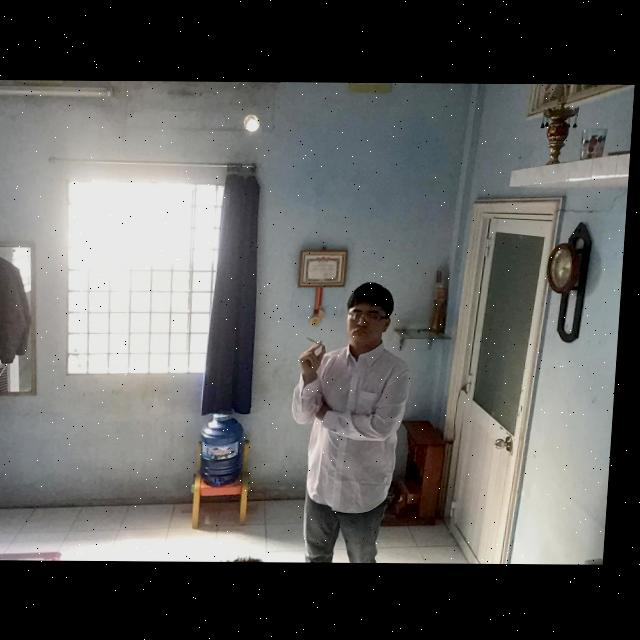cigarette: (311, 337, 331, 347)
